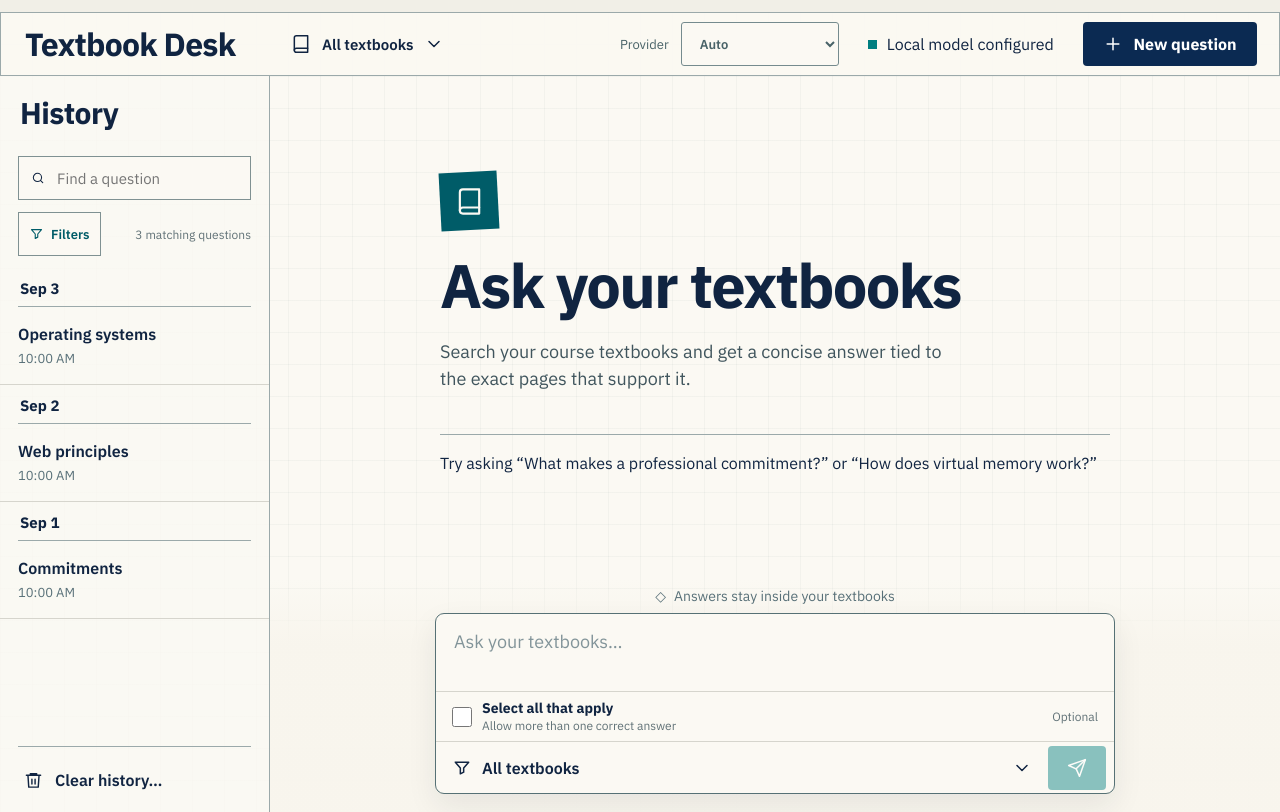
Scenario: Textbook Desk › filters history by course, provider, mode, and date, then restores the saved order
This screenshot has width=1280, height=812.
Later steps or results of the test are not shown.
Click the button "Web principles 10:00 AM".
click(118, 462)  # box left=18, top=424, right=219, bottom=501
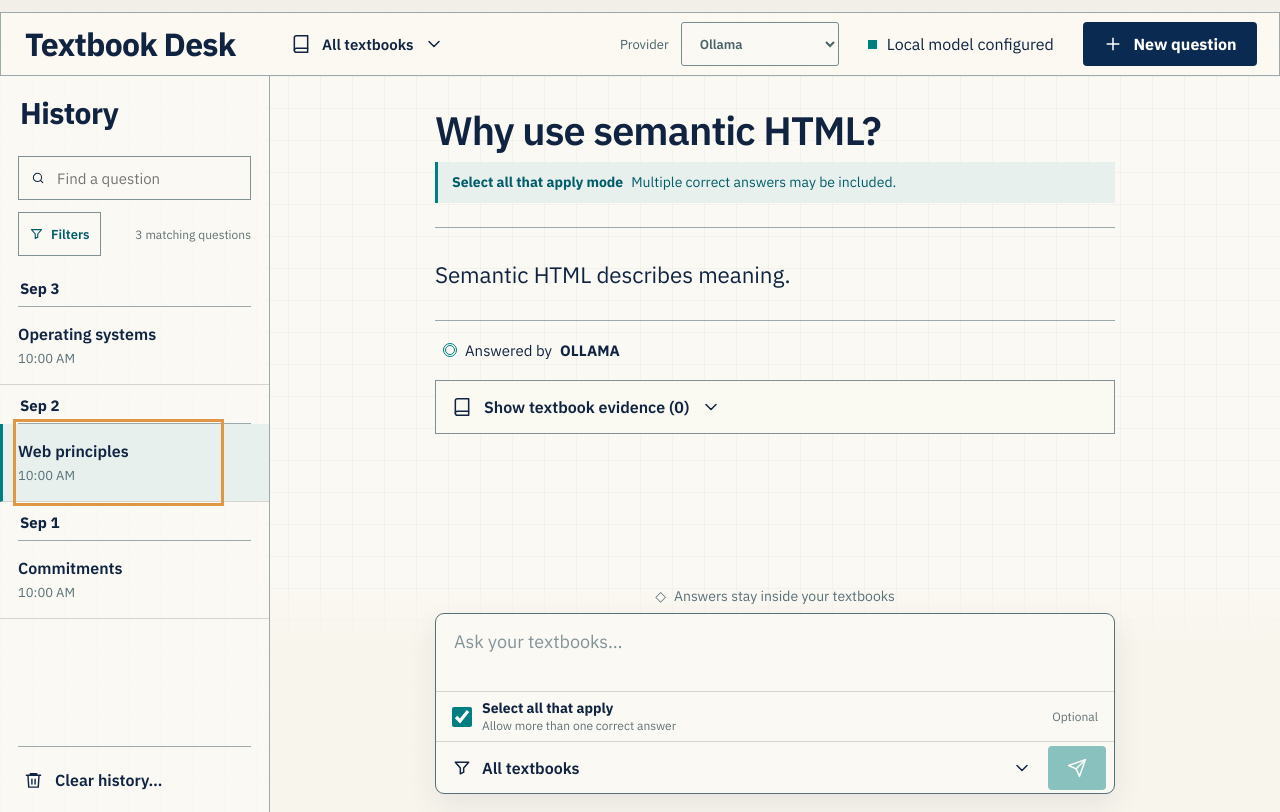
Check: the heading "Why use semantic HTML?" is shown, box left=435, top=104, right=881, bottom=156
Click the button "Filters".
click(59, 234)  # box left=18, top=212, right=100, bottom=256
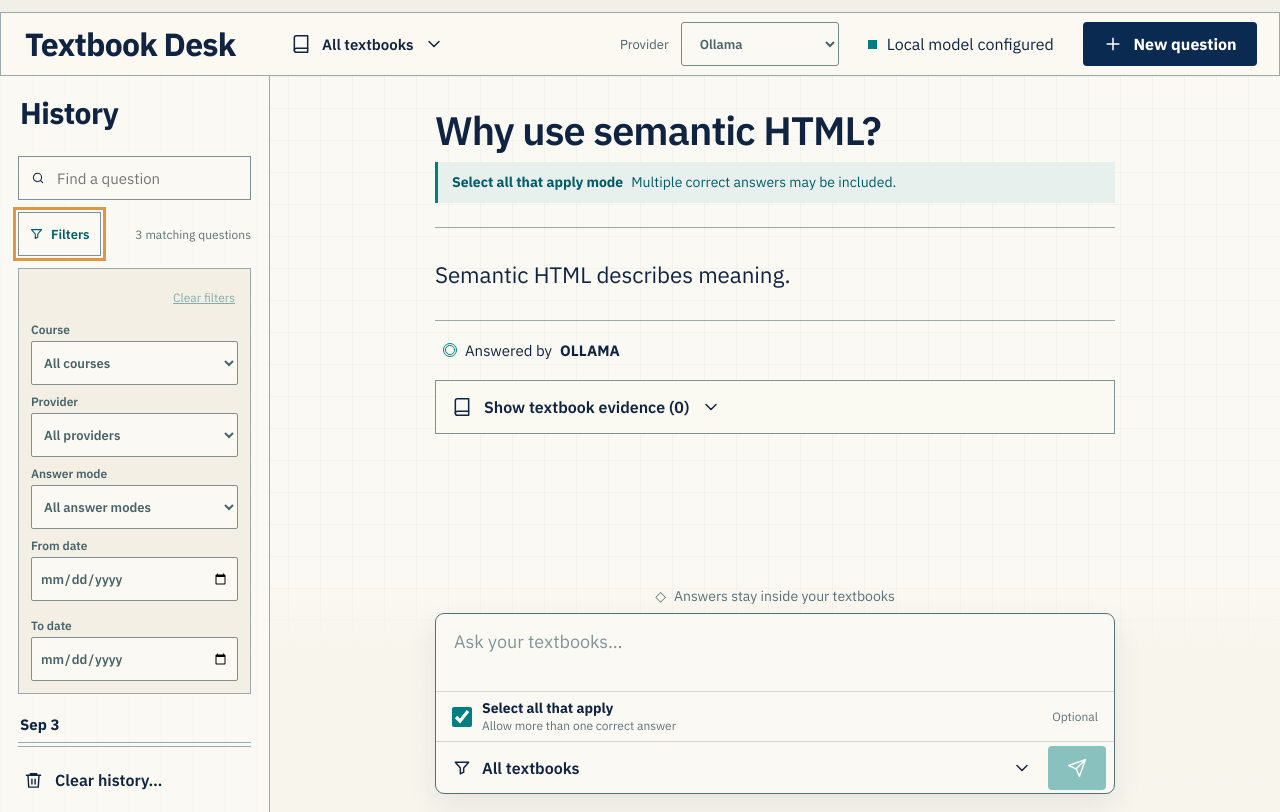
Select "WEB 110" in the dropdown named "Filter history by course" at (134,363), box left=31, top=341, right=238, bottom=385
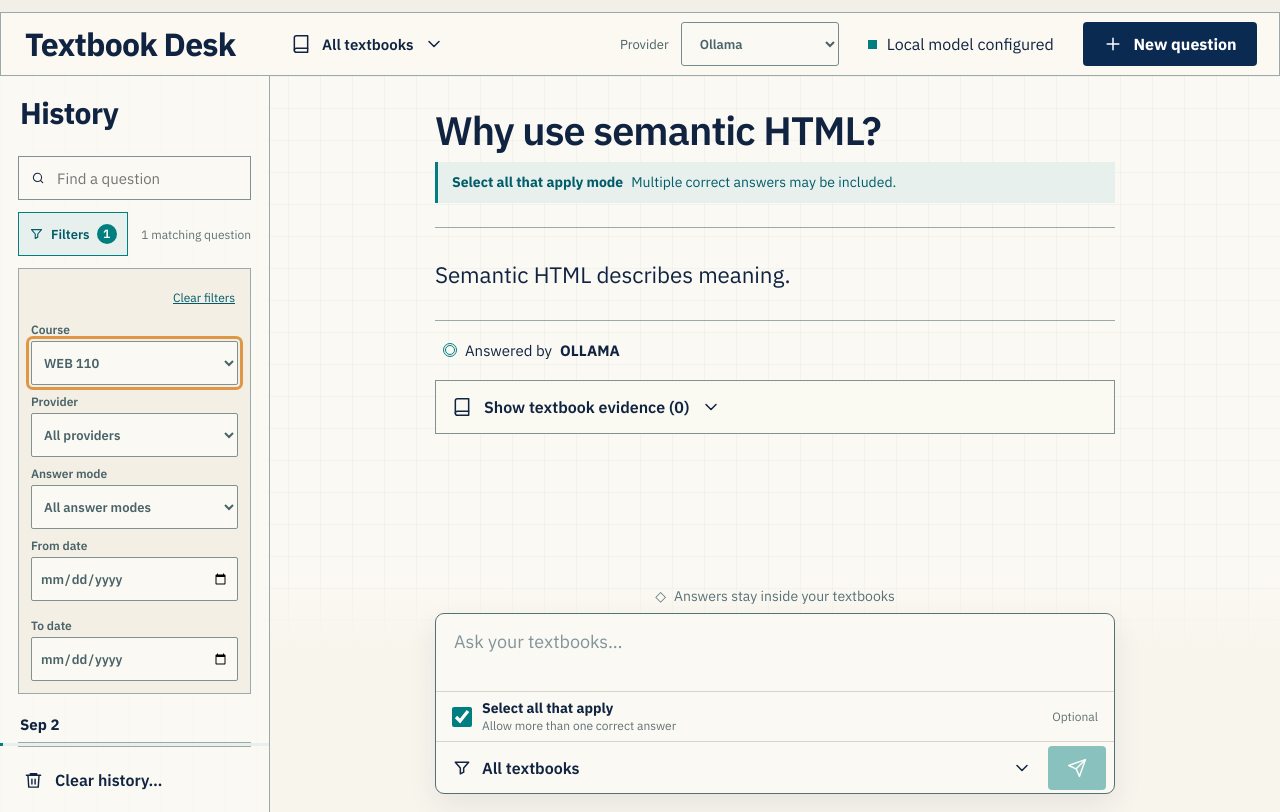
Check: the text "1 matching question" is shown, box left=141, top=226, right=251, bottom=242
